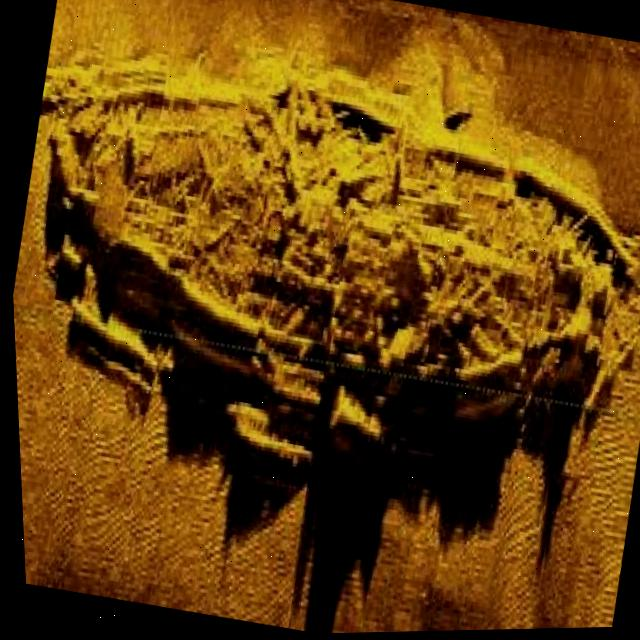shipwreck: (1, 30, 640, 499)
